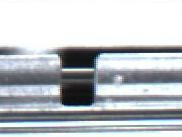oneu: (48, 49, 108, 111)
